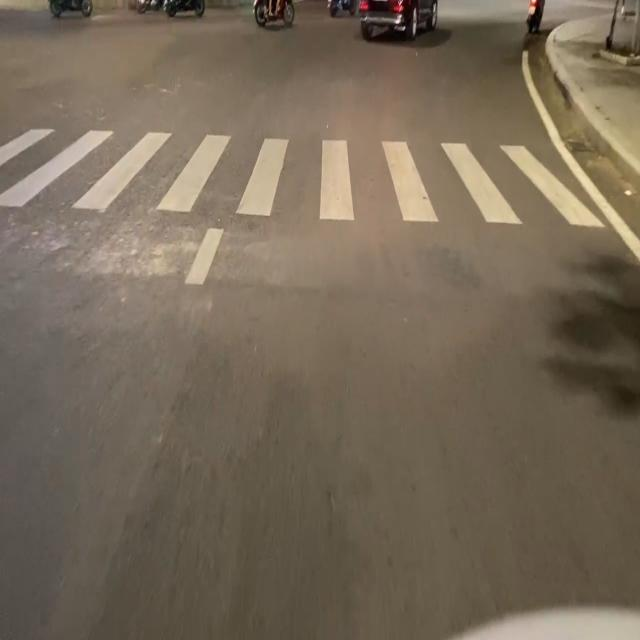walk-crossing: (0, 121, 603, 232)
